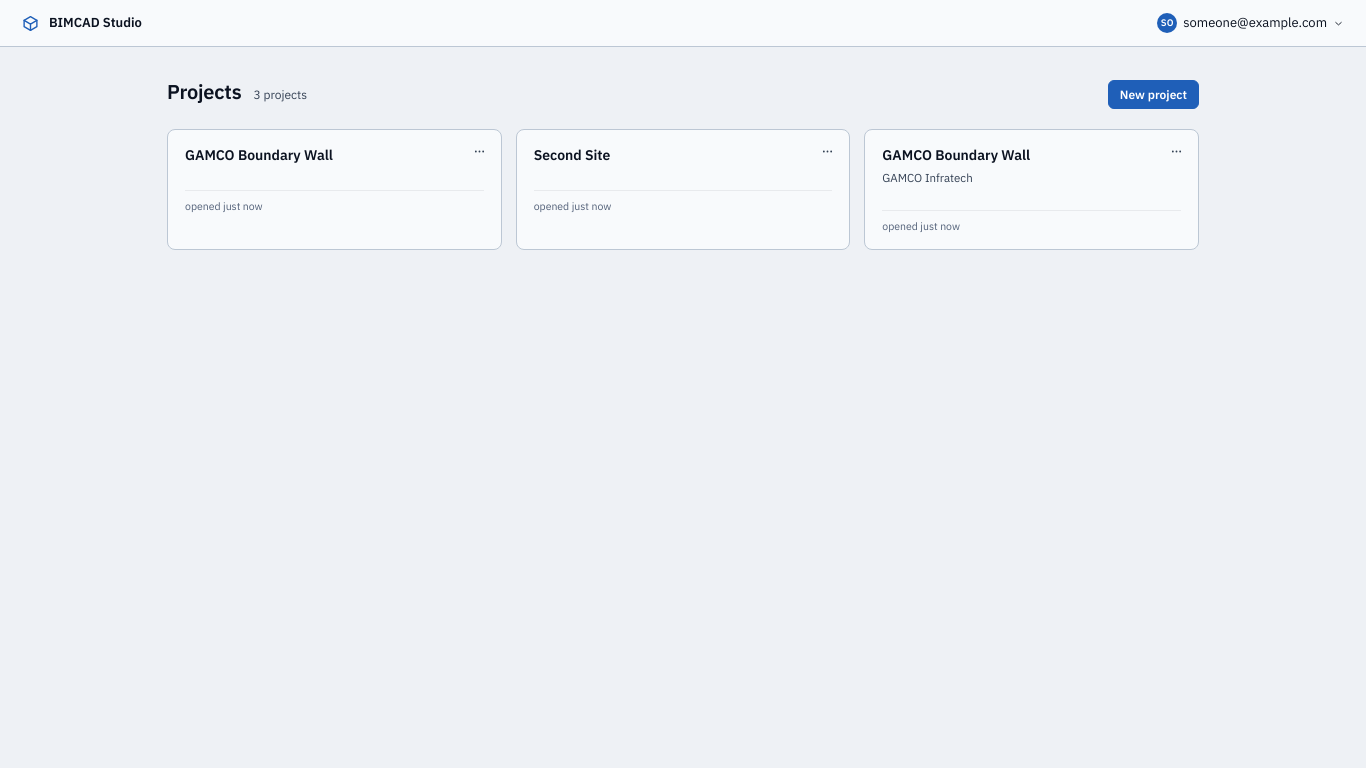
Test: boot (§2.3) › opening a card lands in the Files view of the shell and names the project in the window title
Click the button "GAMCO Boundary Wall opened just now": (334, 190) [167,129,502,250]
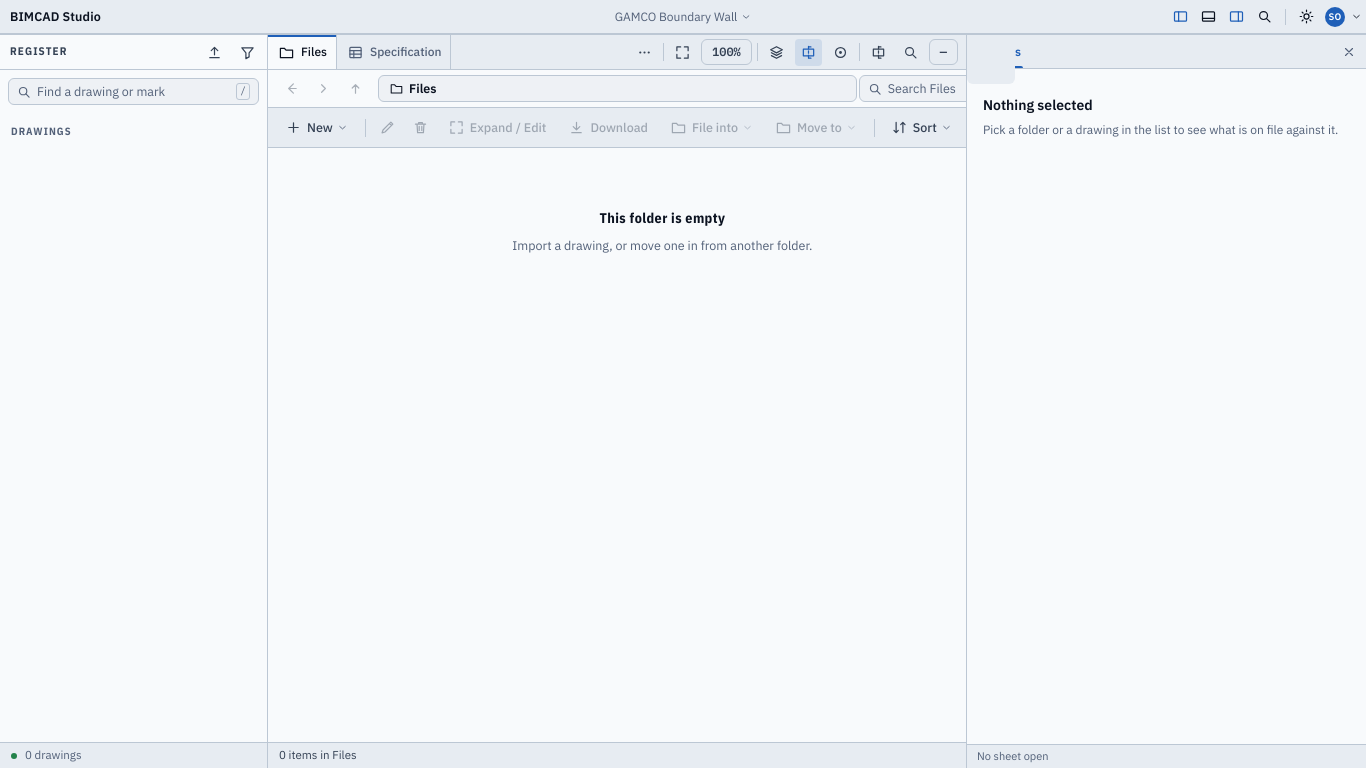
Expected: the element with test id "workbench" is shown
Expected: the element with test id "files-view" is shown, [268,70,966,742]
